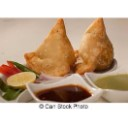samosa: (25, 18, 77, 73), (81, 18, 115, 72)
